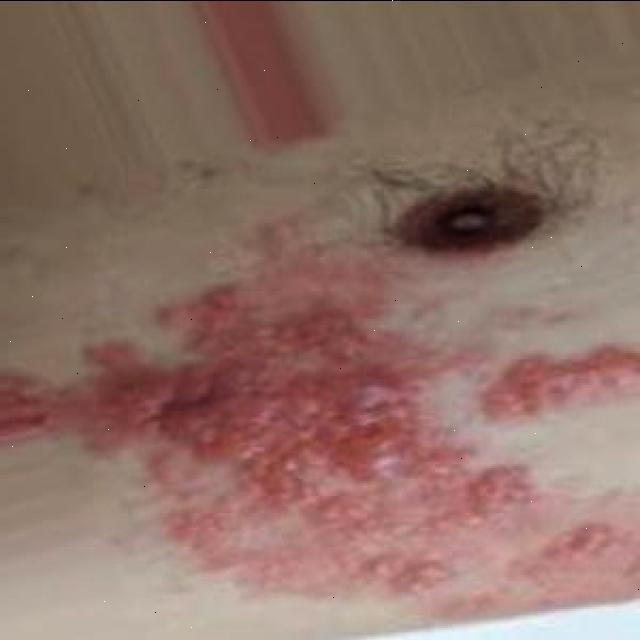Shingles: (76, 306, 639, 596)
